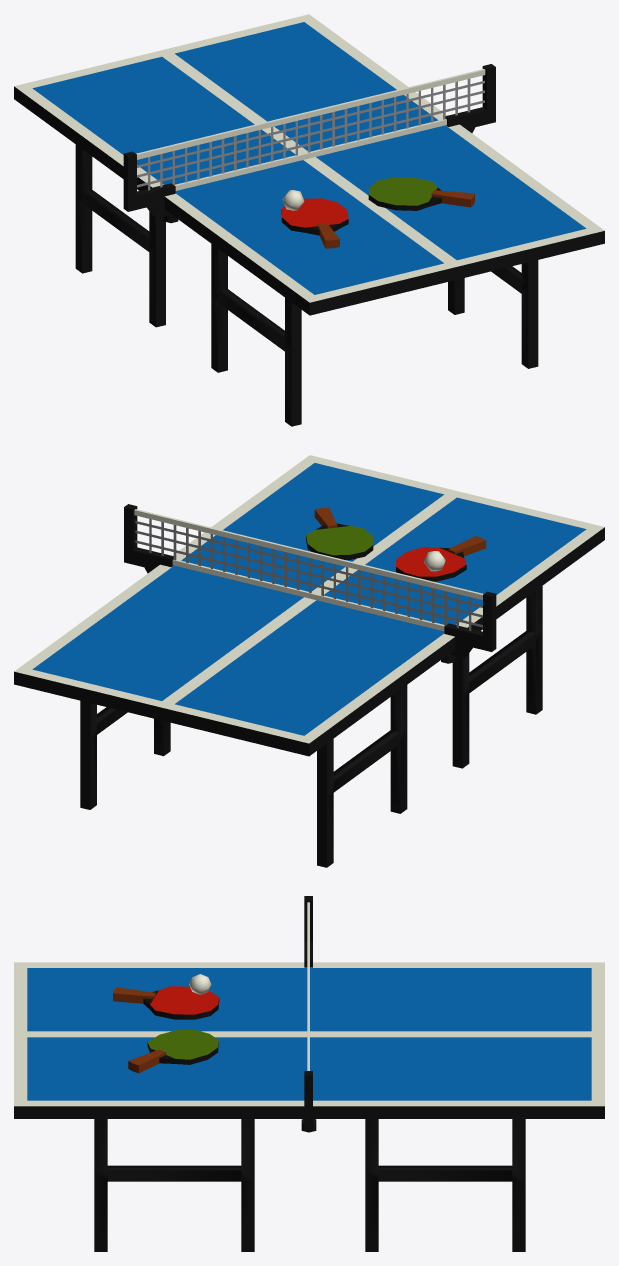
The model's file is Asset_Sport_PingPong.fbx.
The picture shows the model from 3 angles, top to bottom: view 1: azimuth 30°, elevation 25°; view 2: azimuth 150°, elevation 25°; view 3: azimuth 270°, elevation 25°; orthographic projection.
Visible parts, largest first — view 1: Box125, Plane031, Plane033, Plane025, Plane026, Box126, Plane030, Line026, Plane029, Line025; view 2: Box125, Plane033, Plane031, Plane025, Box126, Plane029, Plane026, Plane032, Line026, Line025; view 3: Box125, Plane032, Plane030, Line025, Line026, Box126, Plane025.
Boxes of the visible parts, x1=… form: Box125: x1=14, y1=14, x2=604, y2=315; Plane031: x1=211, y1=244, x2=301, y2=426; Plane033: x1=75, y1=144, x2=165, y2=327; Plane025: x1=136, y1=69, x2=485, y2=190; Plane026: x1=137, y1=80, x2=484, y2=187; Box126: x1=123, y1=64, x2=495, y2=223; Plane030: x1=448, y1=260, x2=538, y2=368; Line026: x1=368, y1=177, x2=474, y2=210; Plane029: x1=148, y1=79, x2=470, y2=190; Line025: x1=281, y1=198, x2=348, y2=248; Box125: x1=14, y1=455, x2=604, y2=756; Plane033: x1=317, y1=685, x2=407, y2=867; Plane031: x1=452, y1=586, x2=542, y2=768; Plane025: x1=134, y1=509, x2=483, y2=631; Box126: x1=124, y1=504, x2=496, y2=663; Plane029: x1=149, y1=519, x2=471, y2=630; Plane026: x1=135, y1=521, x2=482, y2=627; Plane032: x1=80, y1=700, x2=170, y2=809; Line026: x1=306, y1=507, x2=373, y2=559; Line025: x1=396, y1=536, x2=486, y2=581; Box125: x1=14, y1=962, x2=604, y2=1118; Plane032: x1=365, y1=1119, x2=525, y2=1251; Plane030: x1=94, y1=1119, x2=254, y2=1251; Line025: x1=113, y1=986, x2=219, y2=1019; Line026: x1=128, y1=1030, x2=218, y2=1073; Box126: x1=301, y1=896, x2=316, y2=1132; Plane025: x1=307, y1=902, x2=309, y2=1070.
Bounding box in the file's own units: 150 × 80.51 × 208.
